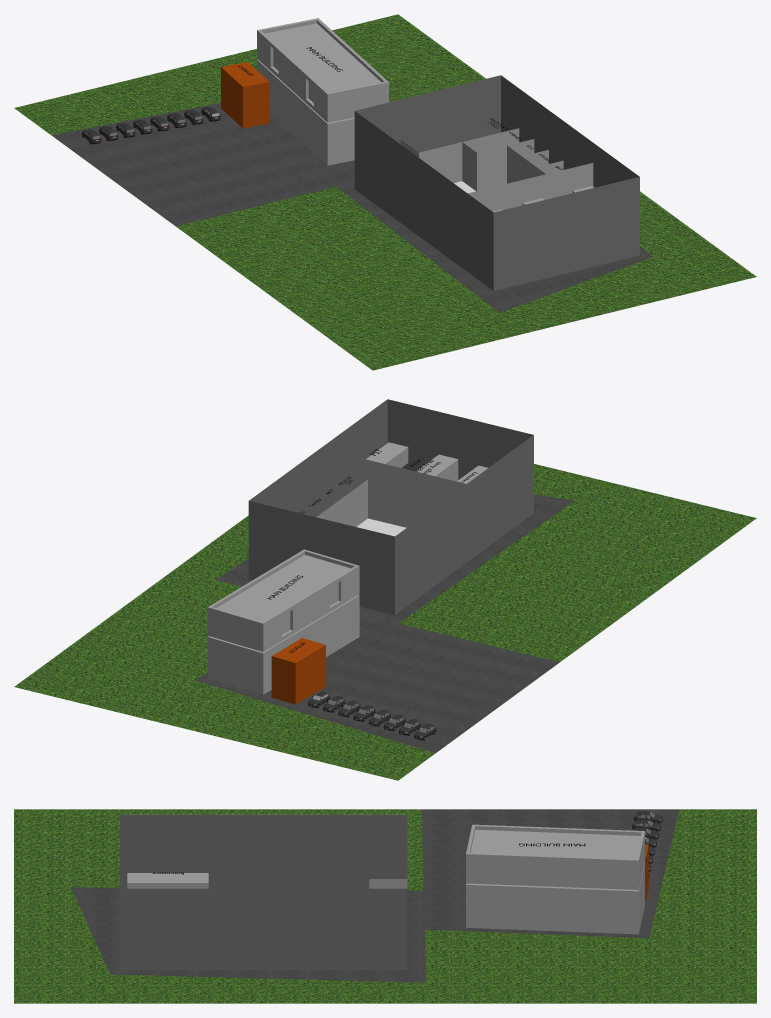
File: storm-location-plan.glb
The picture shows the model from 3 angles, top to bottom: view 1: azimuth 30°, elevation 25°; view 2: azimuth 150°, elevation 25°; view 3: azimuth 270°, elevation 25°; orthographic projection. The views are drawn at different scales.
Parts seen in each view (by area): view 1: Plane, Cube.001, Curve, Cube, Cube.002, Plane.001; view 2: Plane, Cube.001, Curve, Cube, Cube.002, Plane.001, Cube.004; view 3: Plane, Cube.001, Cube, Curve, Cube.004, Plane.001.
Boxes of the visible parts, x1=… form: Plane: x1=14, y1=14, x2=756, y2=370; Cube.001: x1=354, y1=75, x2=639, y2=290; Curve: x1=52, y1=103, x2=652, y2=312; Cube: x1=257, y1=18, x2=388, y2=165; Cube.002: x1=221, y1=61, x2=269, y2=128; Plane.001: x1=82, y1=107, x2=220, y2=144; Plane: x1=14, y1=464, x2=756, y2=780; Cube.001: x1=248, y1=399, x2=533, y2=614; Curve: x1=195, y1=494, x2=574, y2=752; Cube: x1=207, y1=549, x2=359, y2=694; Cube.002: x1=271, y1=638, x2=325, y2=704; Plane.001: x1=308, y1=691, x2=436, y2=740; Cube.004: x1=366, y1=442, x2=487, y2=483; Plane: x1=14, y1=809, x2=756, y2=1003; Cube.001: x1=120, y1=814, x2=407, y2=969; Cube: x1=466, y1=824, x2=644, y2=934; Curve: x1=71, y1=809, x2=679, y2=982; Cube.004: x1=127, y1=873, x2=208, y2=888; Plane.001: x1=632, y1=811, x2=662, y2=878.
Size of the model in its own units: 72.67 by 14.23 by 118.
16 materials, 4 textured.
